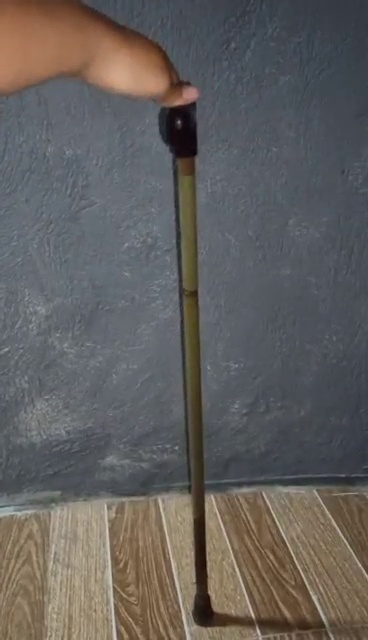cane: (158, 97, 218, 621)
hand: (75, 18, 198, 111)
